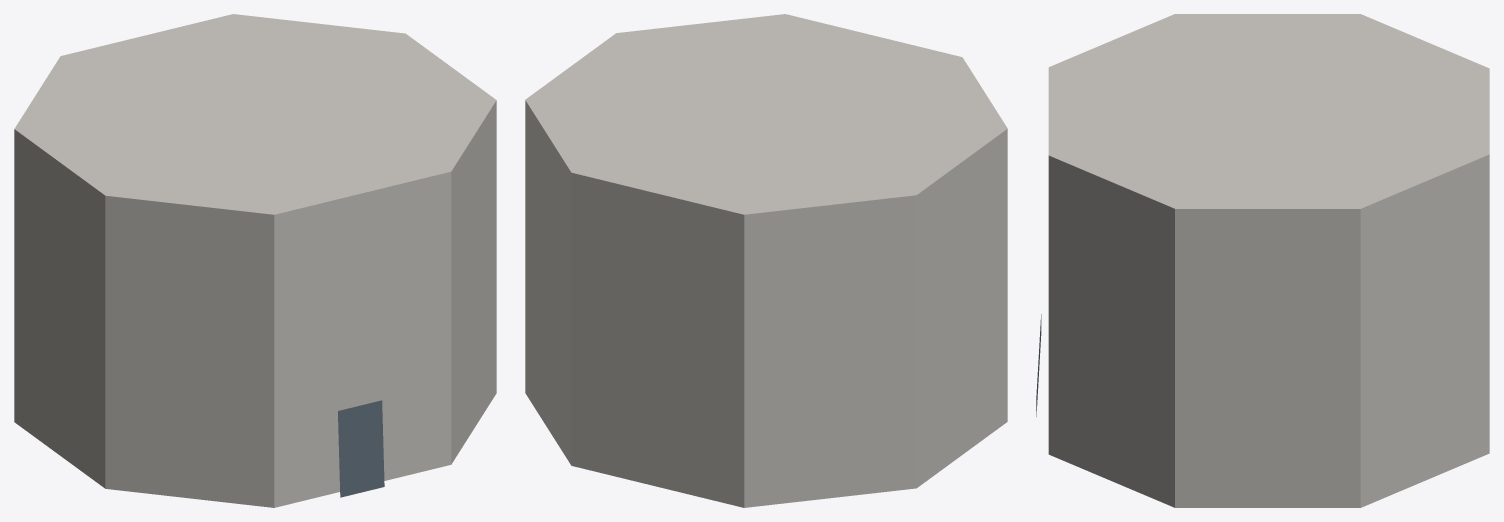
File: loin-etape-1.glb
3 views of the same model, side by side, from view 1: azimuth 30°, elevation 25°; view 2: azimuth 150°, elevation 25°; view 3: azimuth 270°, elevation 25° (orthographic). The views are drawn at different scales.
Parts seen in each view (by area): view 1: loin; view 2: loin; view 3: loin.
Part boxes in pixels (<box>): loin: <box>14,14,496,507</box>; loin: <box>525,14,1007,507</box>; loin: <box>1036,14,1489,507</box>.
Size of the model in its own units: 0.5919 by 0.4237 by 0.5816.
